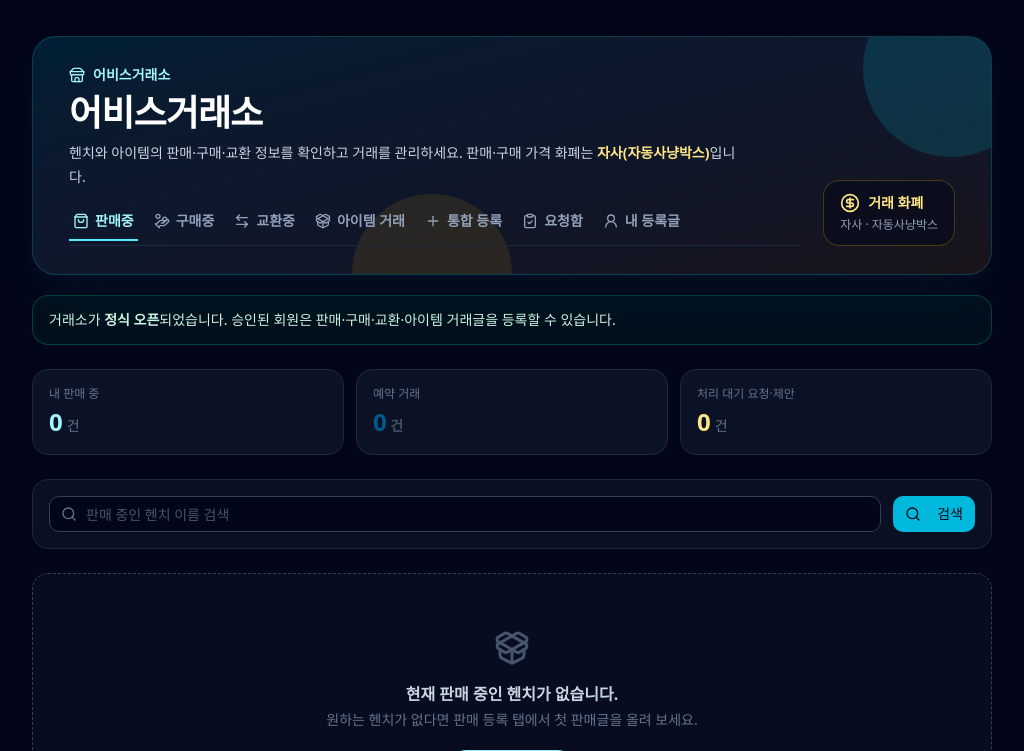
it: Marketplace › keeps item-market registration available to approved regular members
This screenshot has width=1024, height=751.
expect the text "현재 판매 중인 헨치가 없습니다." is shown: met, box [406,683,618,705]
Click the button "아이템 거래" at (360, 225), box [311,209,409,241]
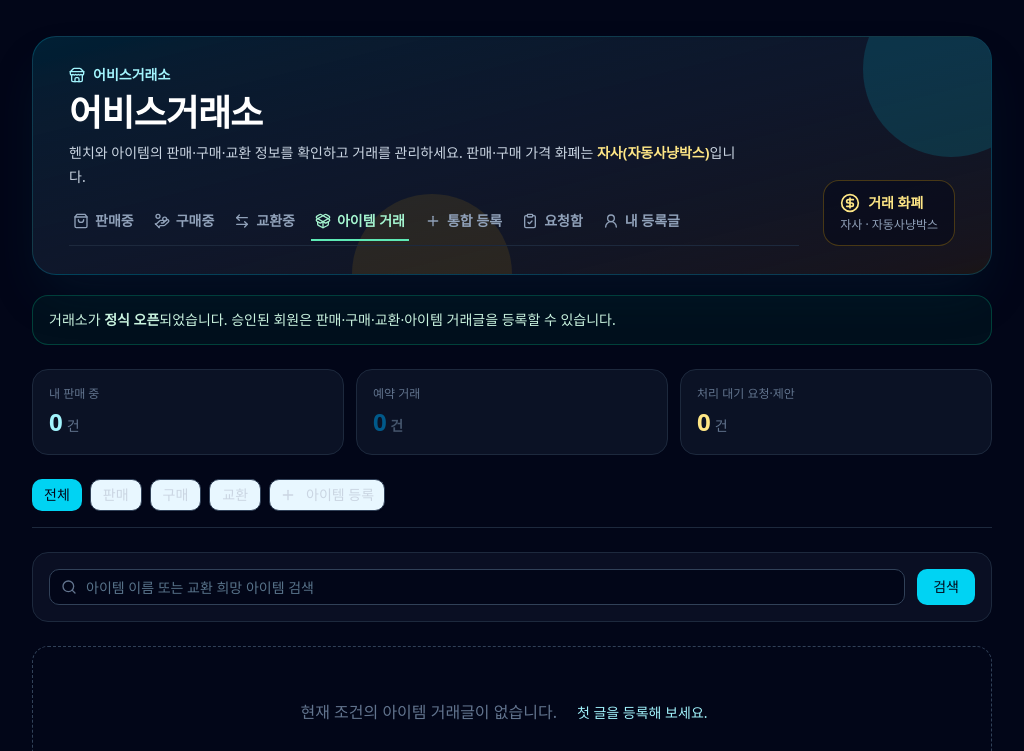
expect the text "현재 조건의 아이템 거래글이 없습니다." is shown: met, box [300,701,557,723]
expect the button "아이템 등록" is shown: met, box [269,479,385,511]
